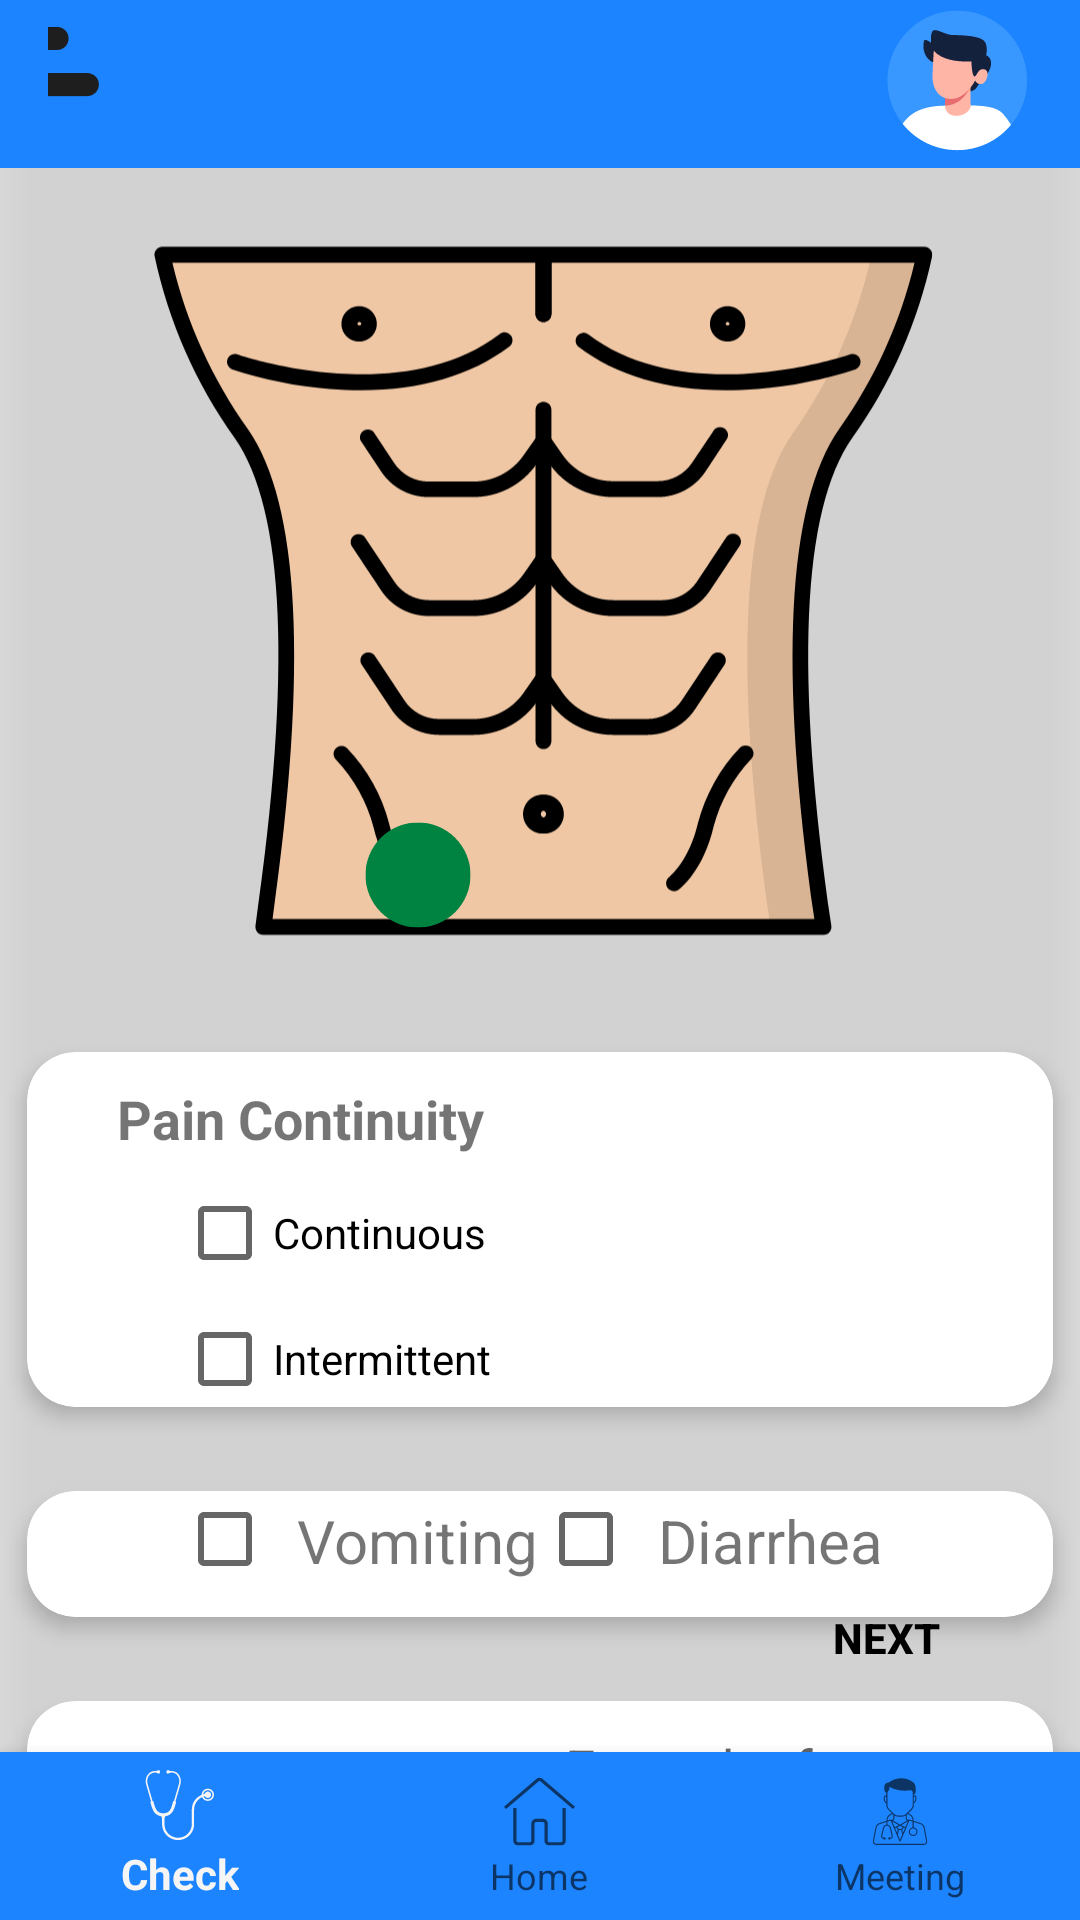

Locate icon controls on the screen. Image size 1080px×1920px, boxes as (x1, y1, x2, y2).
profile: (888, 11, 1027, 151)
